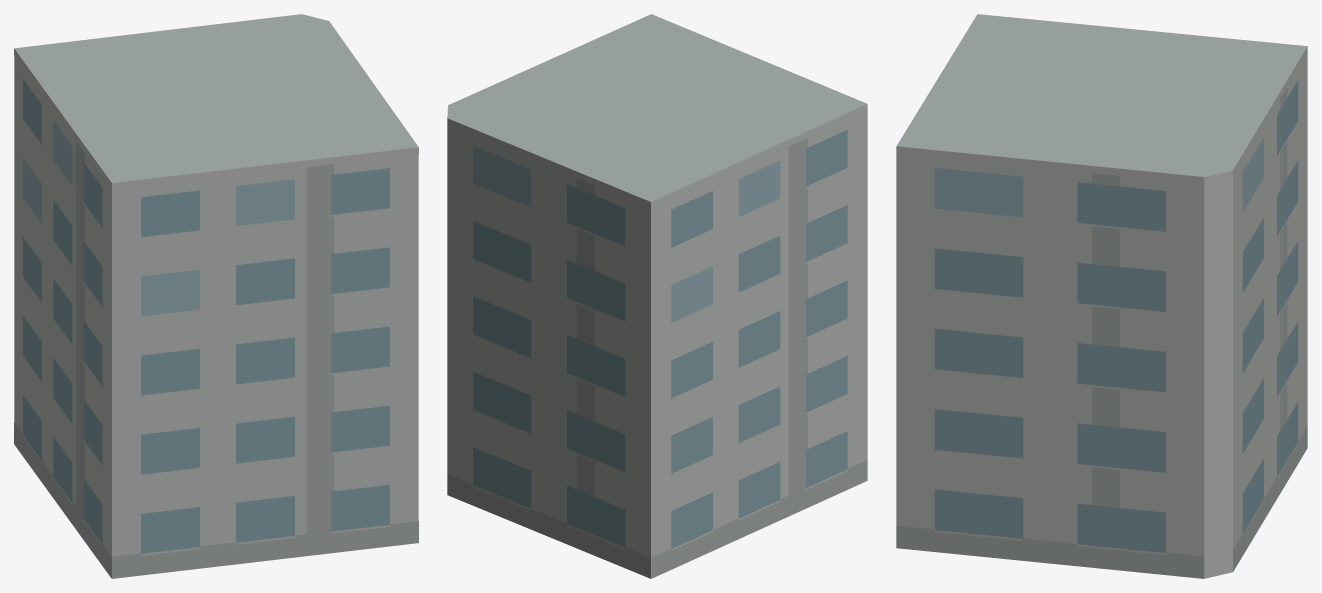
The model's file is survey-upis-32953027.glb.
3 renders of one model, left to right at view 1: azimuth 30°, elevation 25°; view 2: azimuth 150°, elevation 25°; view 3: azimuth 270°, elevation 25°, orthographic. The views are drawn at different scales.
Parts seen in each view (by area): view 1: survey-upis-32953027.tmp; view 2: survey-upis-32953027.tmp; view 3: survey-upis-32953027.tmp.
Boxes of the visible parts, box(x1,y1,x2,y2) form: survey-upis-32953027.tmp: box(14, 14, 418, 578); survey-upis-32953027.tmp: box(447, 14, 867, 578); survey-upis-32953027.tmp: box(896, 14, 1307, 578).
Size of the model in its own units: 11.67 by 13.4 by 12.44.
